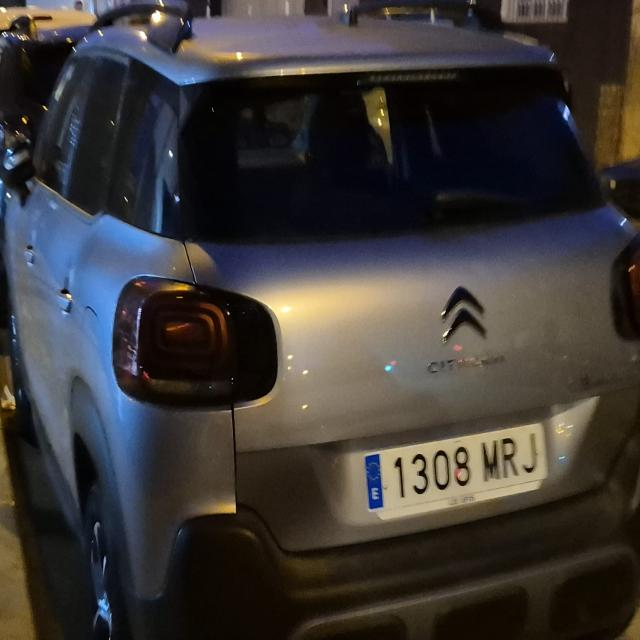license_plate-34Td: (364, 423, 547, 519)
